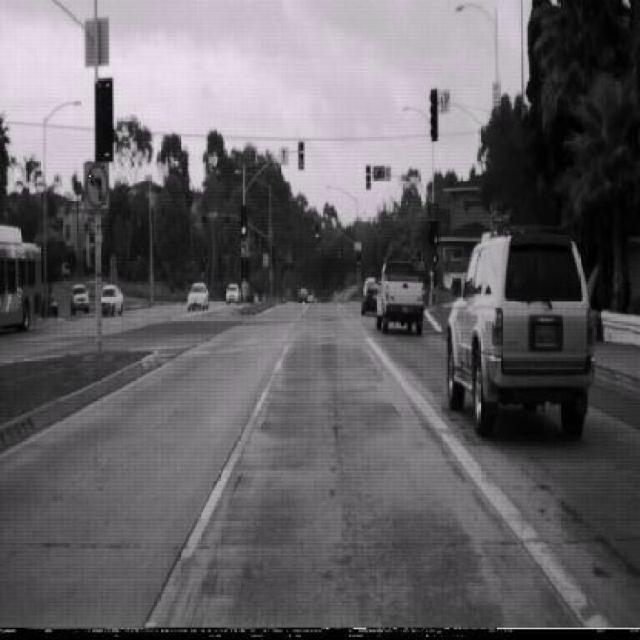noLeftTurn: (84, 160, 110, 210)
